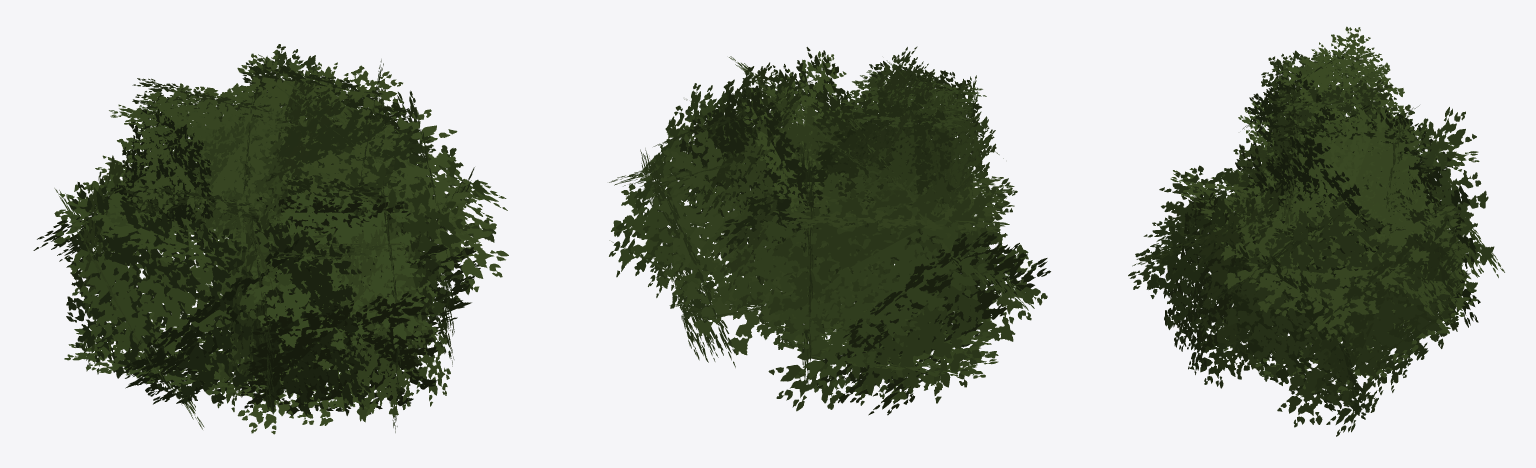
File: bush_c.glb
3 views of the same model, side by side, from view 1: azimuth 30°, elevation 25°; view 2: azimuth 150°, elevation 25°; view 3: azimuth 270°, elevation 25° (orthographic). The views are drawn at different scales.
Visible parts, largest first — view 1: Object_30; view 2: Object_30; view 3: Object_30.
Boxes of the visible parts, x1,y1,x2,y2 form: Object_30: [33, 44, 508, 434]; Object_30: [609, 46, 1050, 415]; Object_30: [1128, 26, 1504, 436].
Bounding box in the file's own units: 4.49 × 3.46 × 3.84.
1 material, 1 textured.
